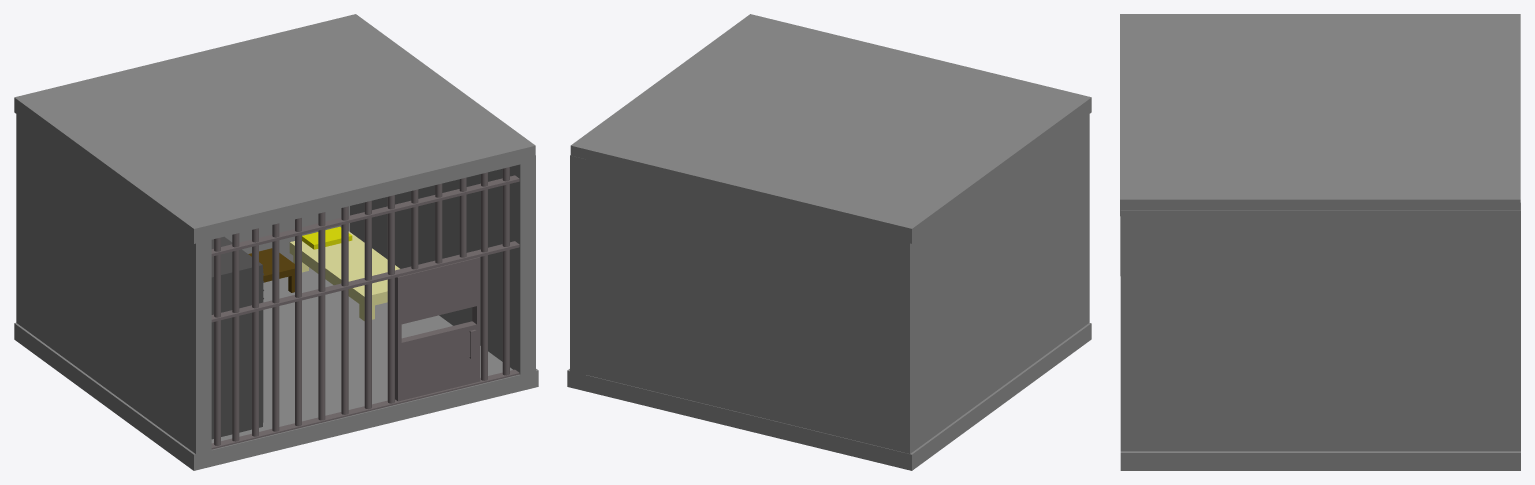
Rendered from Prison Cell 2.0.fbx.
3 renders of one model, left to right at view 1: azimuth 30°, elevation 25°; view 2: azimuth 150°, elevation 25°; view 3: azimuth 270°, elevation 25°, orthographic. The views are drawn at different scales.
Parts seen in each view (by area): view 1: Cell, Roof, Front Gate, Door, Cube.006, Bed 1, Table 1, Pillow 1; view 2: Cell, Roof; view 3: Cell, Roof.
Boxes of the visible parts, x1=… form: Cell: x1=14, y1=114, x2=538, y2=470; Roof: x1=14, y1=14, x2=535, y2=243; Front Gate: x1=211, y1=167, x2=519, y2=449; Door: x1=395, y1=257, x2=480, y2=401; Cube.006: x1=211, y1=249, x2=263, y2=439; Bed 1: x1=289, y1=231, x2=399, y2=320; Table 1: x1=248, y1=248, x2=294, y2=292; Pillow 1: x1=302, y1=226, x2=352, y2=249; Cell: x1=567, y1=114, x2=1091, y2=470; Roof: x1=570, y1=14, x2=1091, y2=243; Cell: x1=1120, y1=203, x2=1520, y2=470; Roof: x1=1120, y1=14, x2=1520, y2=216.
Bounding box in the file's own units: 1089 × 731 × 984.
